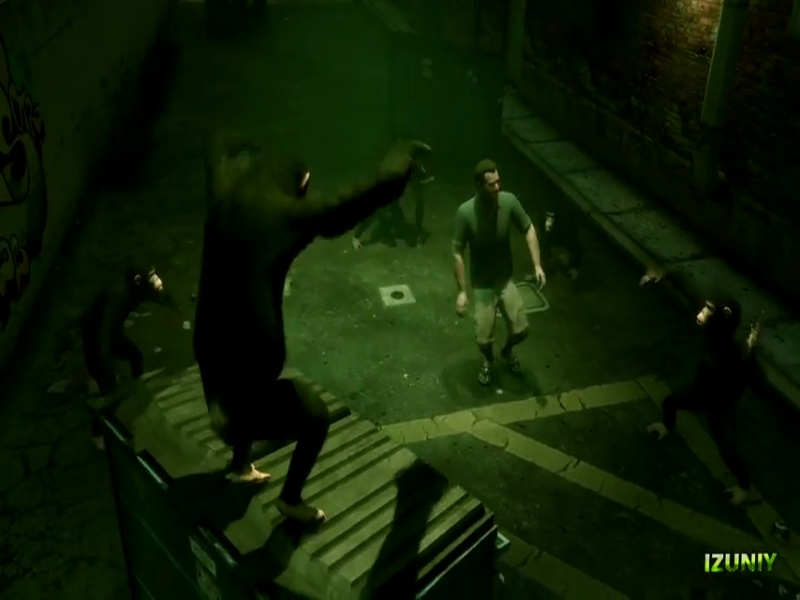human: (446, 163, 543, 375)
